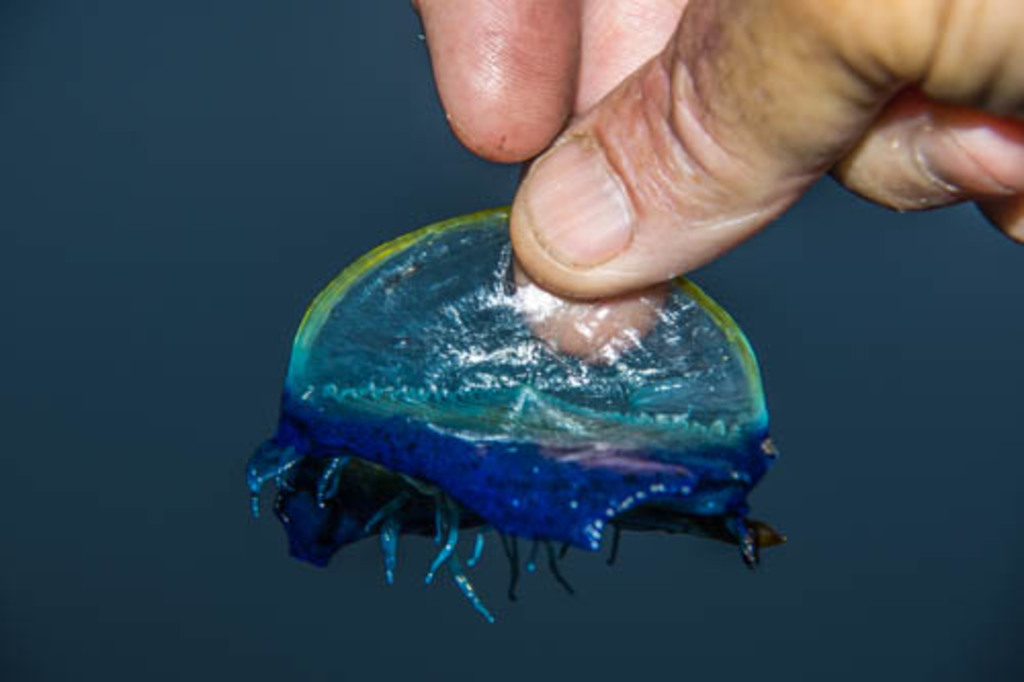Jellyfish: (239, 200, 788, 626)
